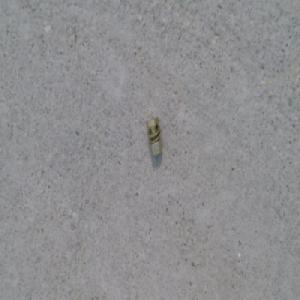BoltNutSet: (144, 115, 163, 161)
